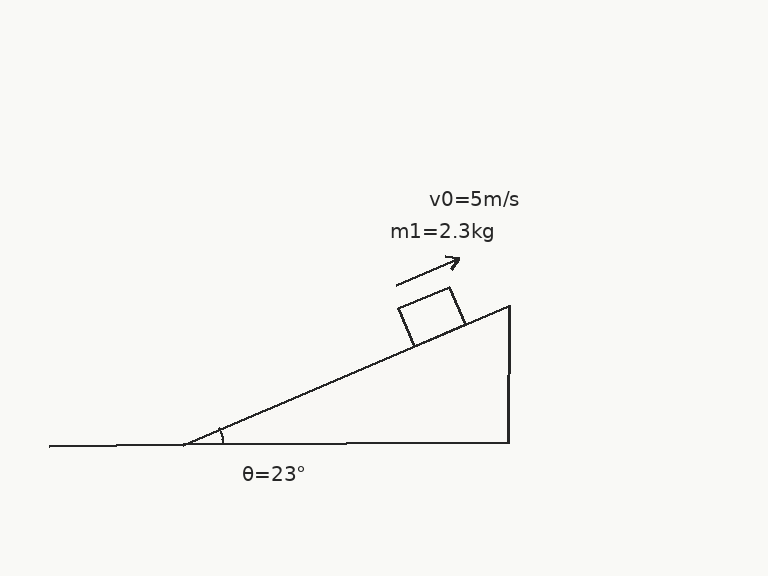block: (396, 285, 467, 348)
ramp: (181, 304, 511, 446)
